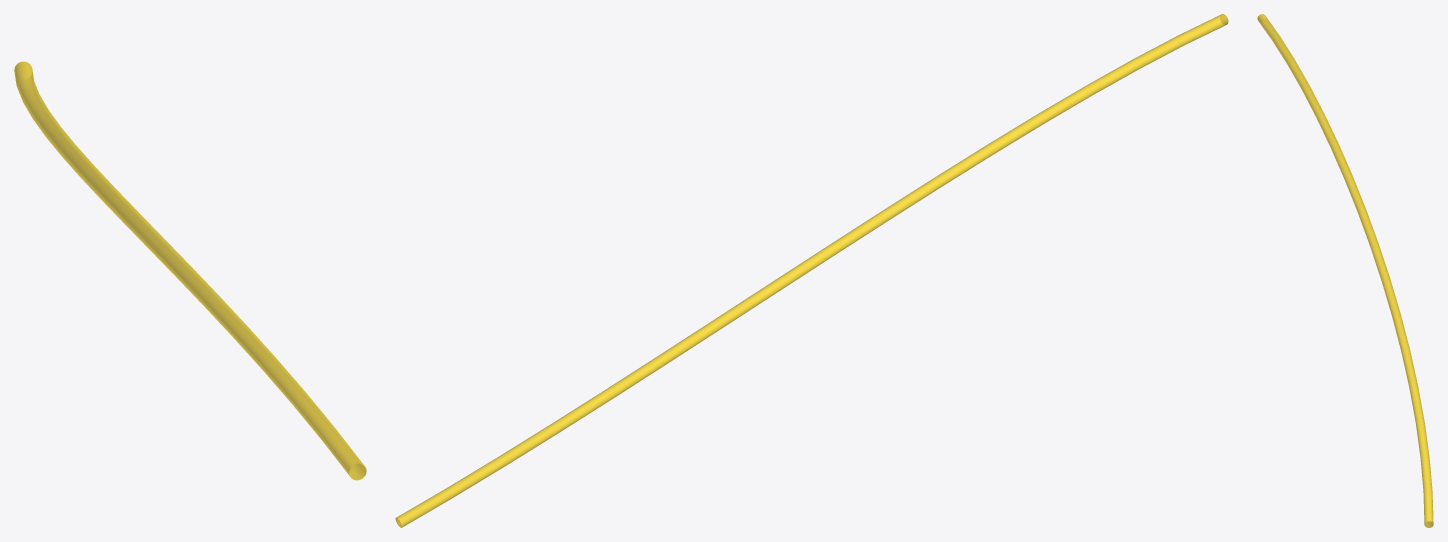
The model's file is Event_84804159_track_106.fbx.
3 renders of one model, left to right at view 1: azimuth 90°, elevation 25°; view 2: azimuth 210°, elevation 25°; view 3: azimuth 270°, elevation 25°, orthographic. The views are drawn at different scales.
Parts seen in each view (by area): view 1: Model; view 2: Model; view 3: Model.
Boxes of the visible parts, x1,y1,x2,y2 form: Model: (14,61,366,480); Model: (395,14,1228,527); Model: (1257,14,1433,527).
Size of the model in its own units: 3.68 by 0.7776 by 0.7715.
